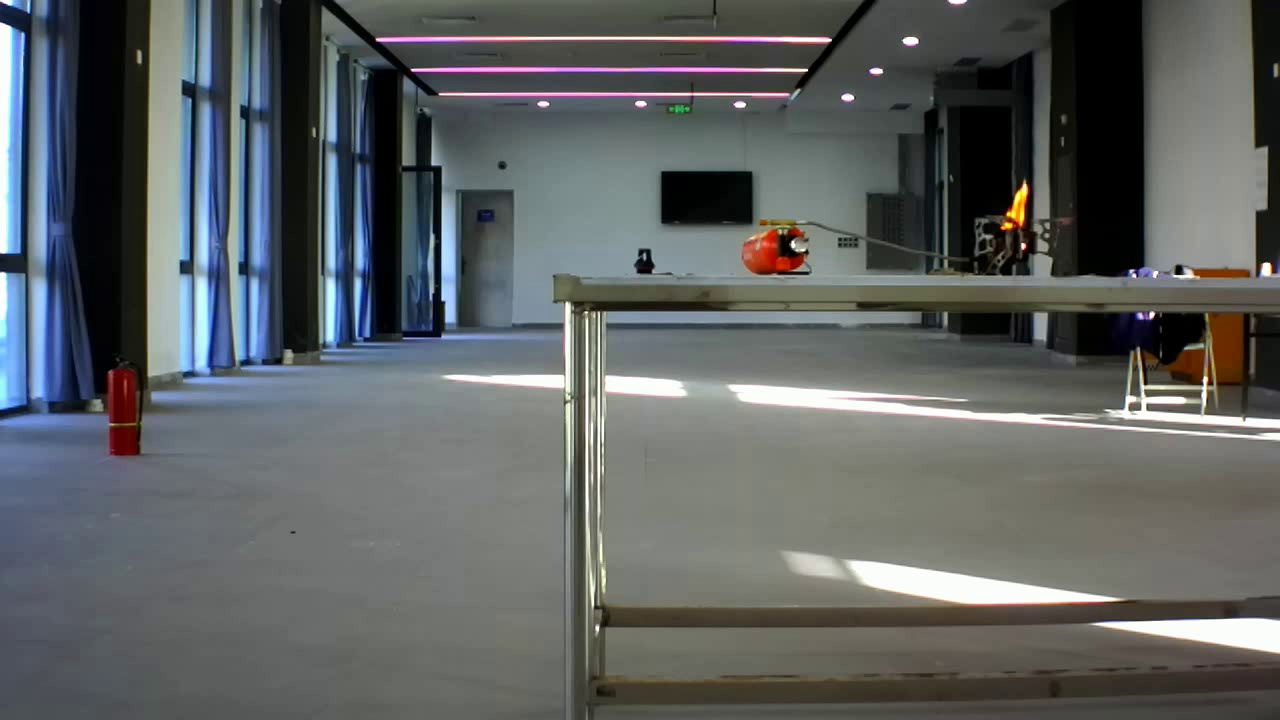Fire: (989, 173, 1045, 240)
